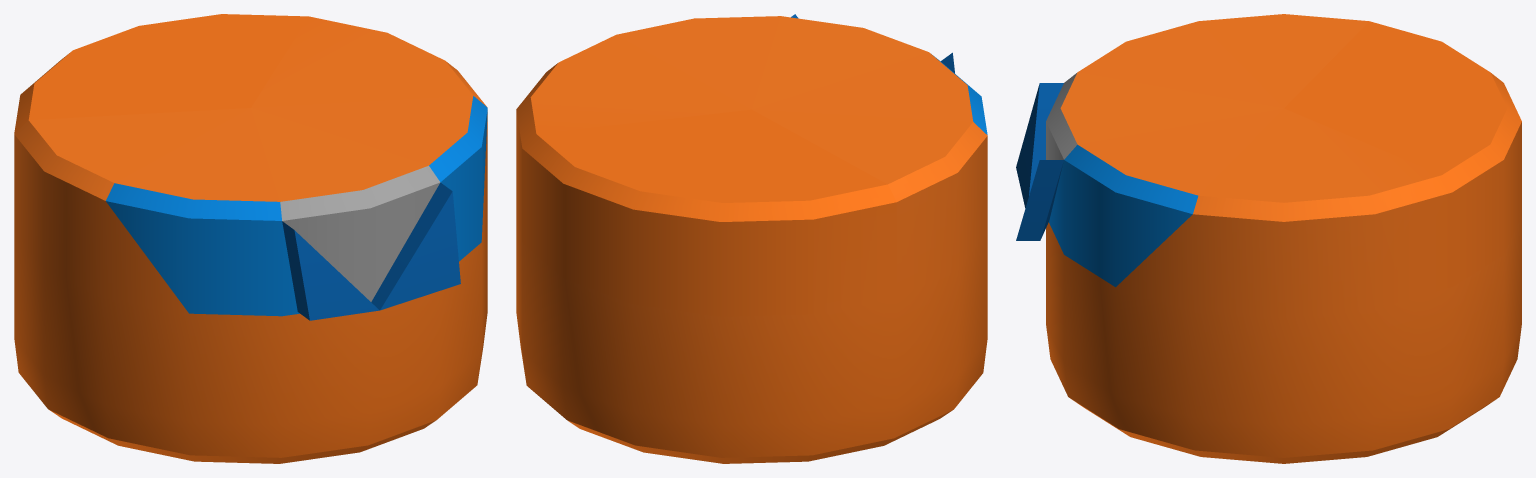
The model's file is Body_Dress_02.fbx.
The picture shows the model from 3 angles, left to right: view 1: azimuth 30°, elevation 25°; view 2: azimuth 150°, elevation 25°; view 3: azimuth 270°, elevation 25°; orthographic projection.
Parts seen in each view (by area): view 1: Body_Dress_02; view 2: Body_Dress_02; view 3: Body_Dress_02.
Boxes of the visible parts, box(x1,y1,x2,y2) form: Body_Dress_02: box(14, 14, 487, 463); Body_Dress_02: box(516, 14, 987, 463); Body_Dress_02: box(1016, 14, 1521, 463).
Bounding box in the file's own units: 100 × 61.13 × 106.
